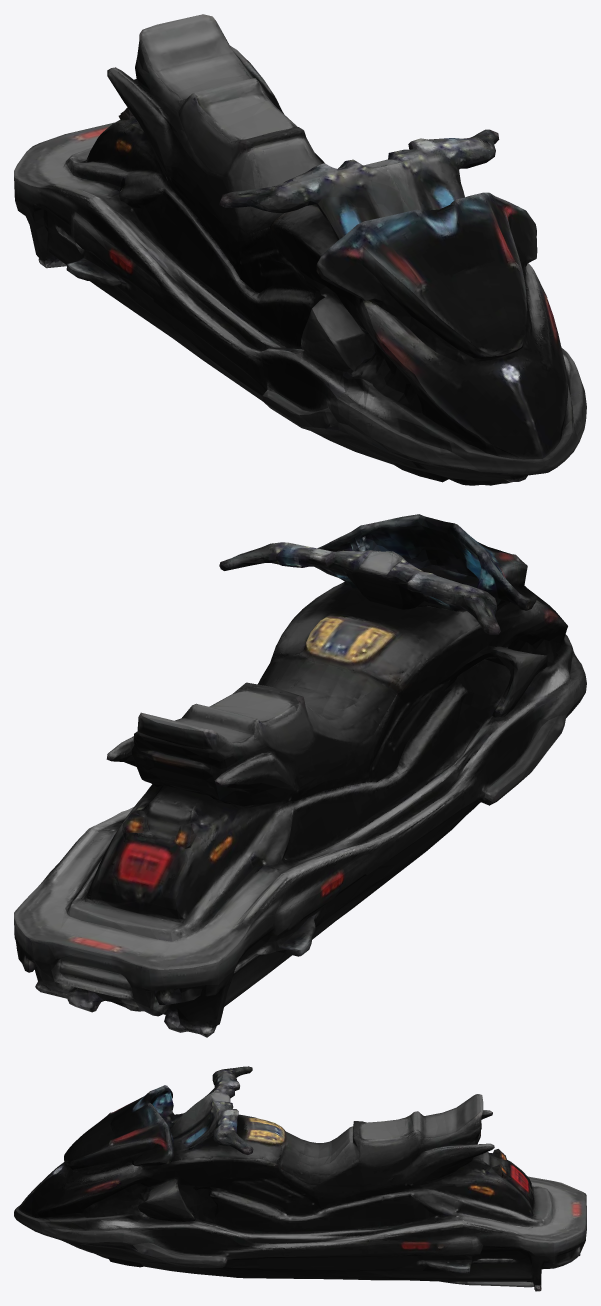
Rendered from yamaha_fx_ia.glb.
The picture shows the model from 3 angles, top to bottom: view 1: azimuth 30°, elevation 25°; view 2: azimuth 150°, elevation 25°; view 3: azimuth 270°, elevation 25°; orthographic projection. The views are drawn at different scales.
Parts seen in each view (by area): view 1: norm; view 2: norm; view 3: norm.
Part boxes in pixels (x1,y1,x2,y2): norm: (14,14,586,485); norm: (14,514,586,1037); norm: (14,1066,586,1291).
Bounding box in the file's own units: 1.24 × 1.19 × 3.5.
Materials: 1 (1 with a texture image).
